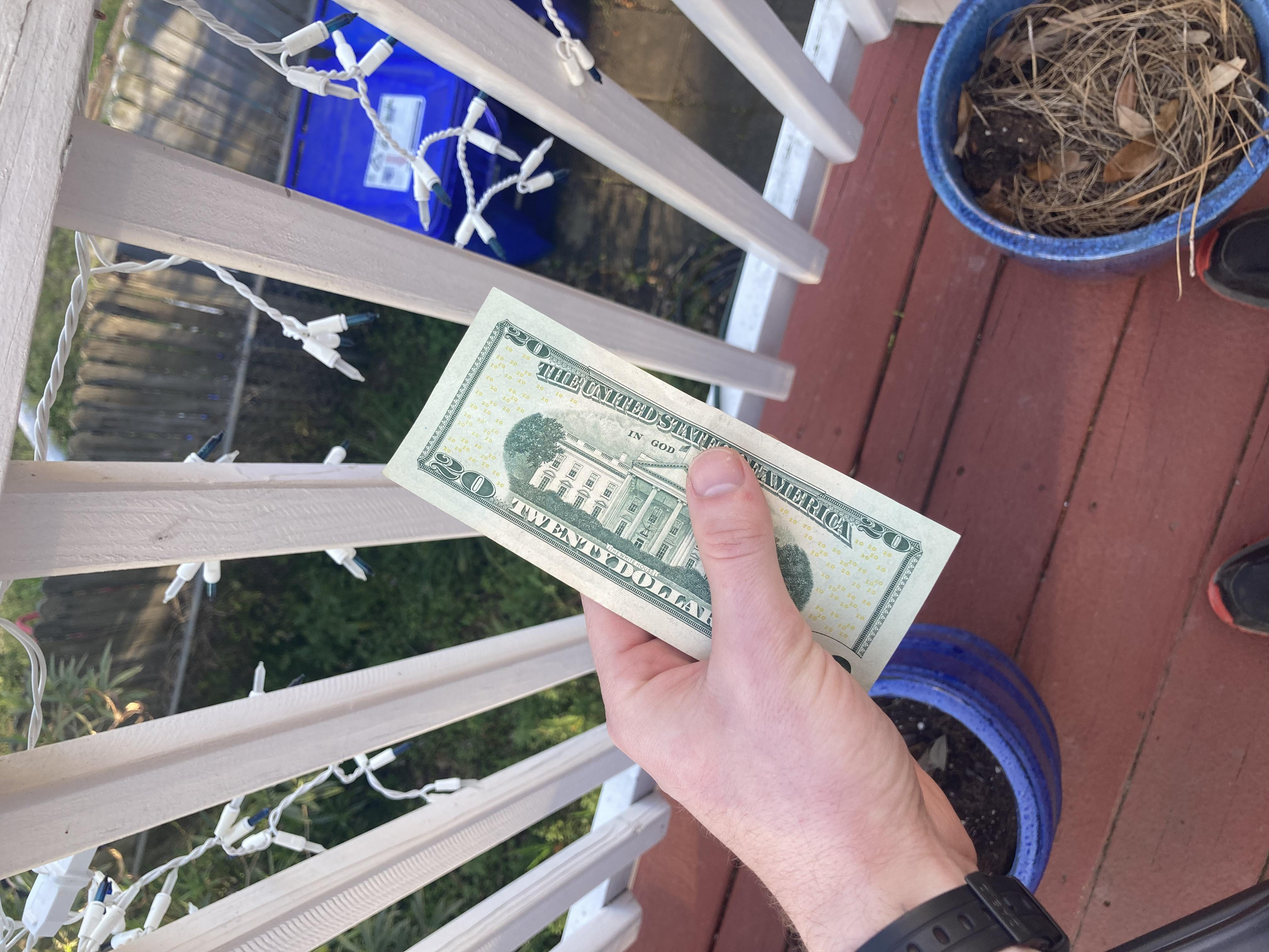twenty-back: (279, 287, 887, 724)
